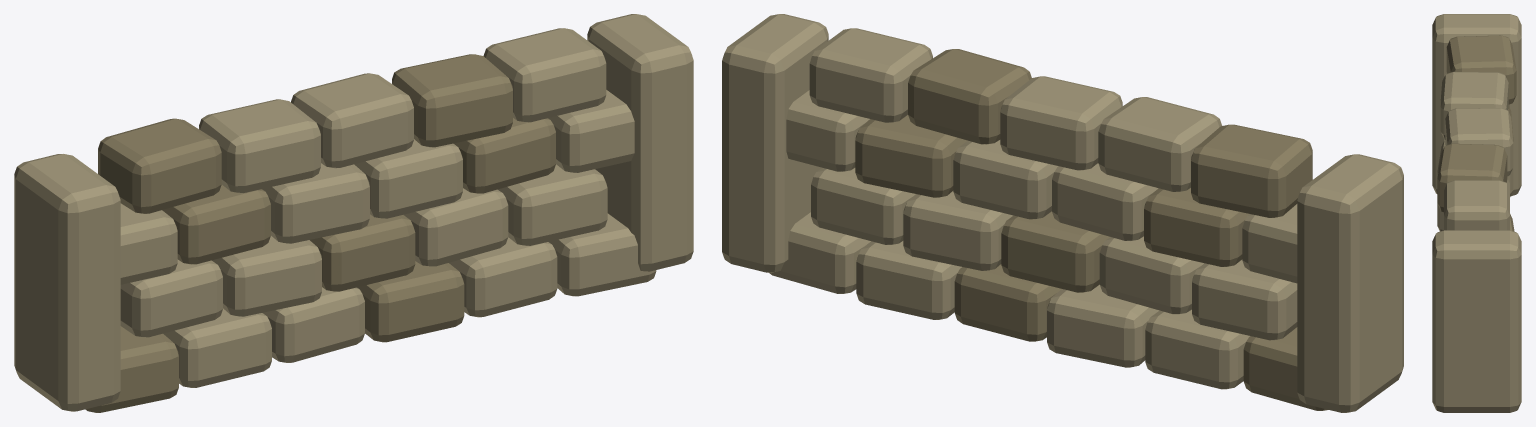
The model's file is sandbags.glb.
3 renders of one model, left to right at view 1: azimuth 30°, elevation 25°; view 2: azimuth 150°, elevation 25°; view 3: azimuth 270°, elevation 25°, orthographic. The views are drawn at different scales.
Parts seen in each view (by area): view 1: sandbags; view 2: sandbags; view 3: sandbags.
Part boxes in pixels (x1,y1,x2,y2): sandbags: (14, 14, 693, 412); sandbags: (722, 14, 1403, 412); sandbags: (1432, 14, 1521, 412).
Size of the model in its own units: 2.92 by 1.06 by 0.46.
